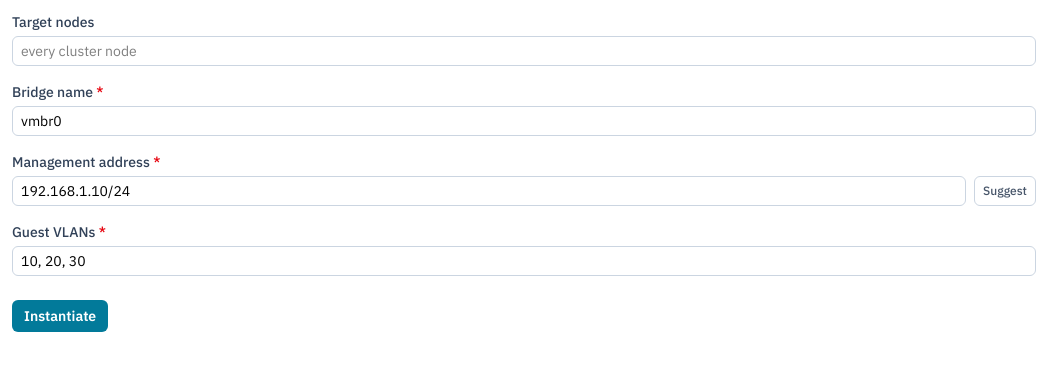
Scenario: ParamForm › blocks submission and shows an error for a bad VID (AC4)
Replace the text in the field labelled "Guest VLANs *" with "10, 9999" at (524, 261), box [12,246,1036,276]
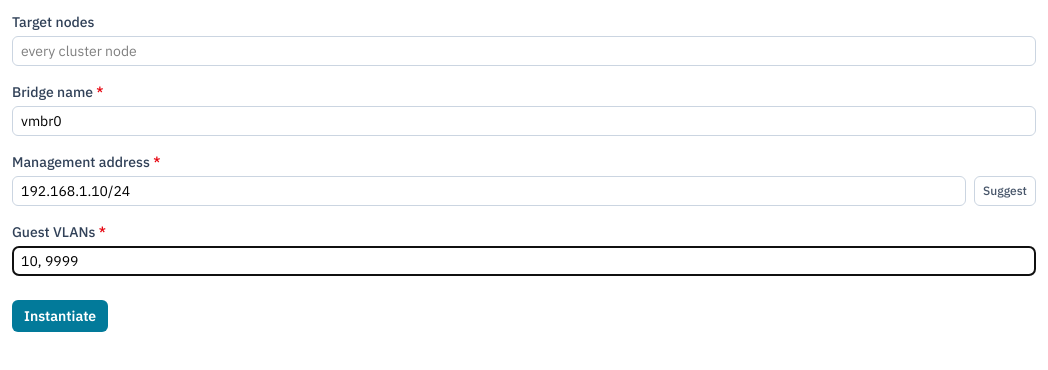
Click the button "Instantiate" at (60, 316), box [12,300,108,332]
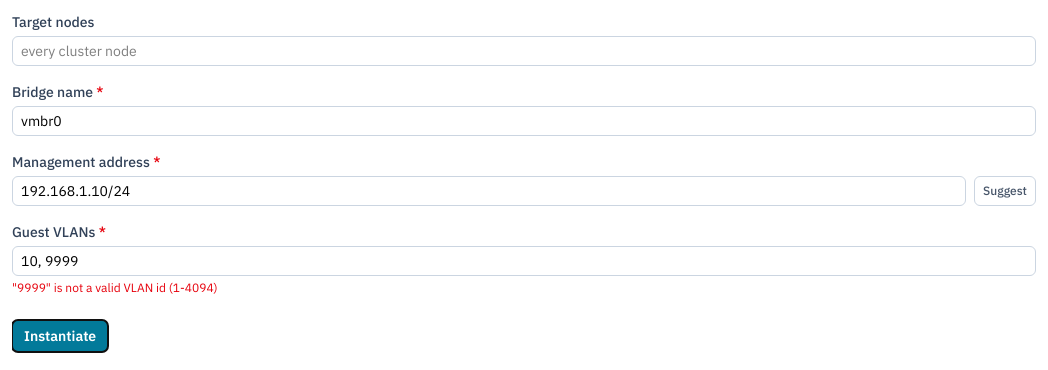
Expected: the text "\"9999\" is not a valid VLAN id (1-4094)" is shown, [12,280,218,295]
